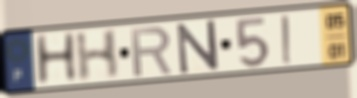5: (234, 15, 273, 69)
H: (31, 30, 80, 89), (73, 27, 121, 84)
I: (279, 13, 294, 67)
N: (174, 18, 222, 77)
R: (129, 25, 175, 79)
